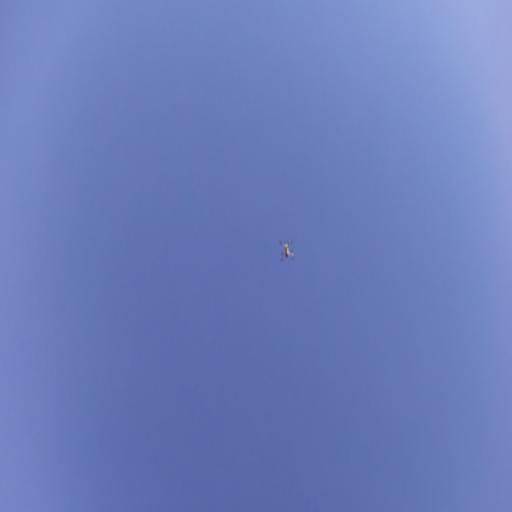drones: (278, 236, 297, 266)
